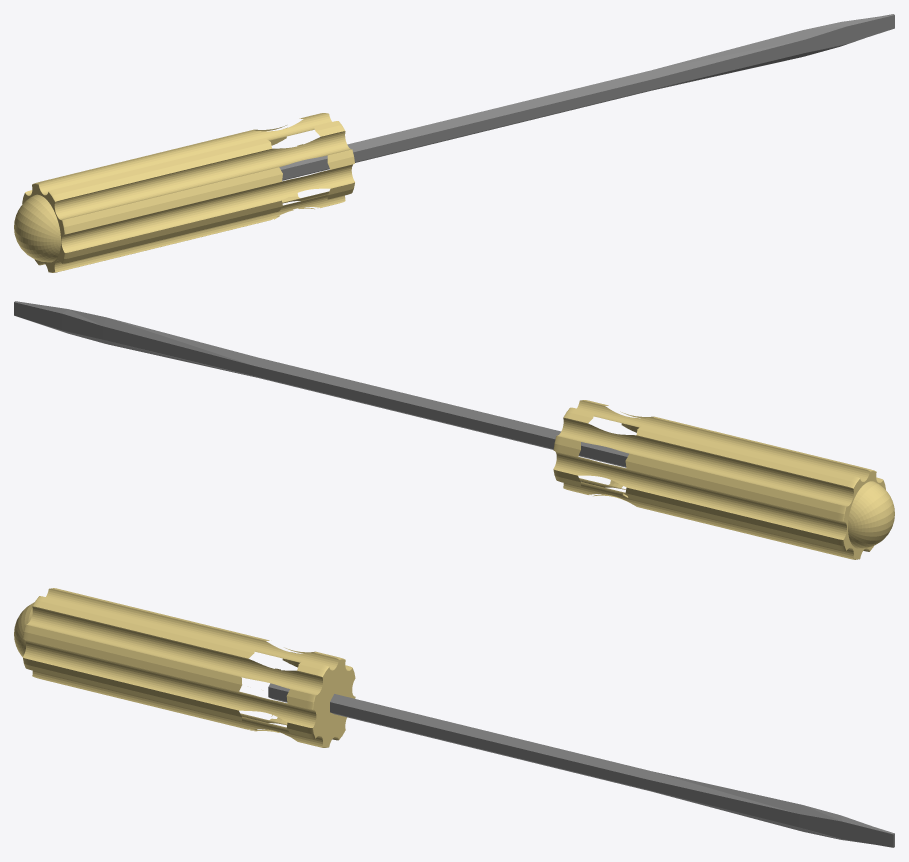
File: SCREWDVR.glb
3 views of the same model, one above another, from view 1: azimuth 30°, elevation 25°; view 2: azimuth 150°, elevation 25°; view 3: azimuth 330°, elevation 25° (orthographic).
Parts seen in each view (by area): view 1: _0; view 2: _0; view 3: _0.
Part boxes in pixels (box(x1,y1,x2,y2)): _0: box(14, 14, 894, 272); _0: box(14, 301, 894, 559); _0: box(14, 588, 894, 847).
Size of the model in its own units: 7.78 by 0.6981 by 0.6712.
